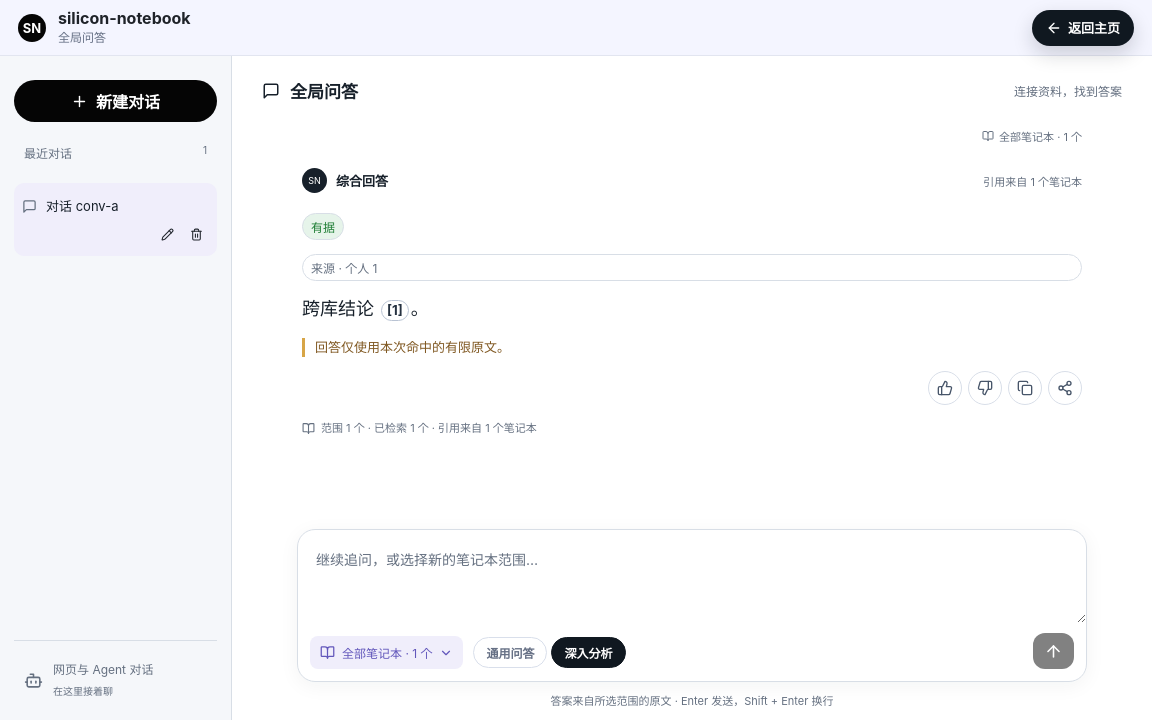
Test: 更新会挤出唯一引用了记忆的那一轮：此刻 1 条照说，更新后不再说记忆
(page scrolled)
Click the button named "分享到这条回答": (1065, 388) [1048,371,1082,405]
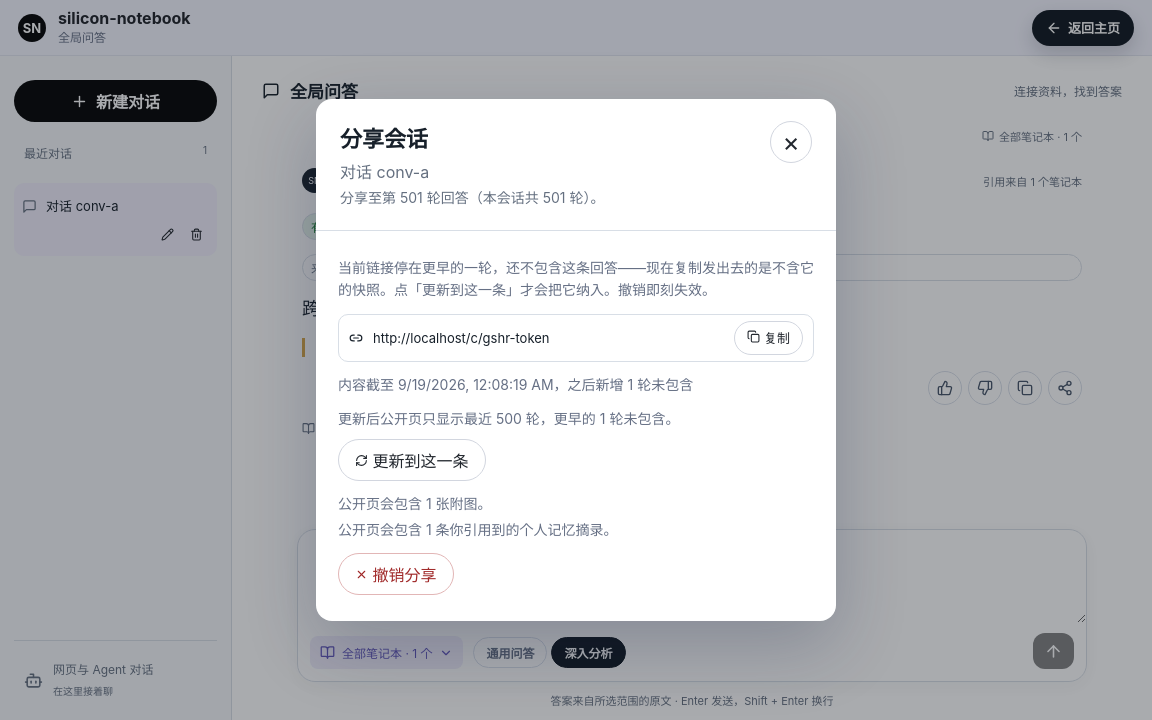
Result: the heading "分享会话" is shown at [340,126,428,152]
Result: the field named "分享链接" is shown at [371,329,726,347]
Result: the text "内容截至 9/19/2026, 12:08:19 AM，之后新增 1 轮未包含" is shown at [338,376,693,393]
